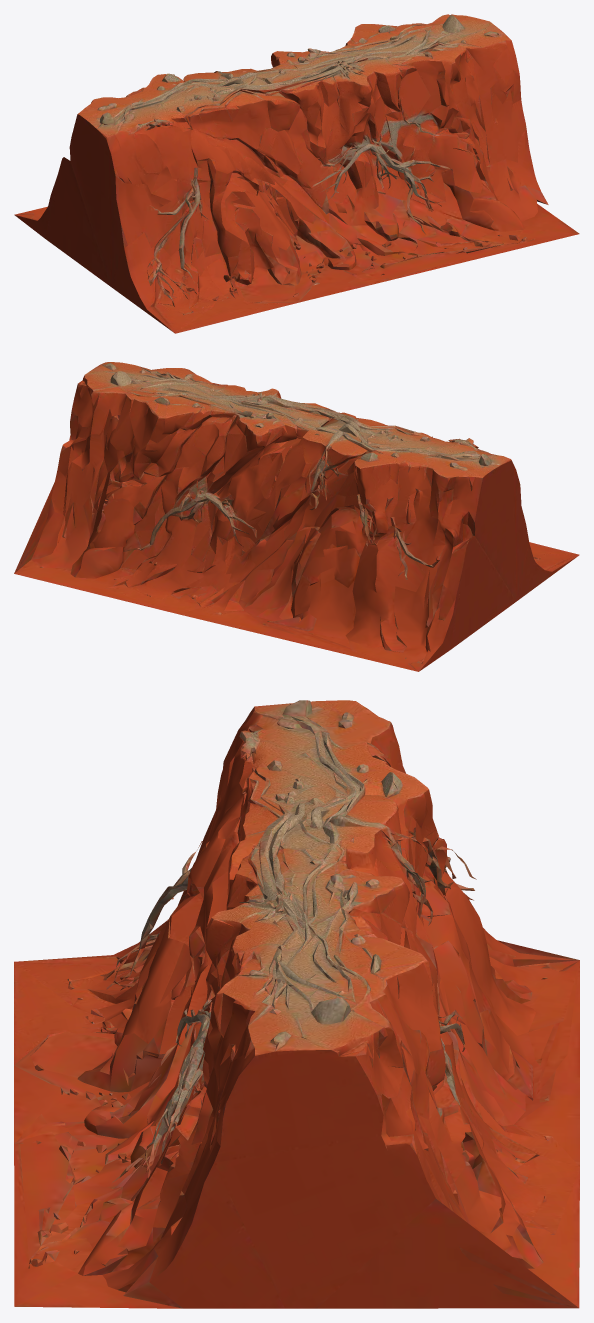
The model's file is Gully_Laterite_Bank.glb.
The picture shows the model from 3 angles, top to bottom: view 1: azimuth 30°, elevation 25°; view 2: azimuth 150°, elevation 25°; view 3: azimuth 270°, elevation 25°; orthographic projection. The views are drawn at different scales.
Bounding box in the file's own units: 1.9 × 0.7206 × 1.31.
1 material, 1 textured.
